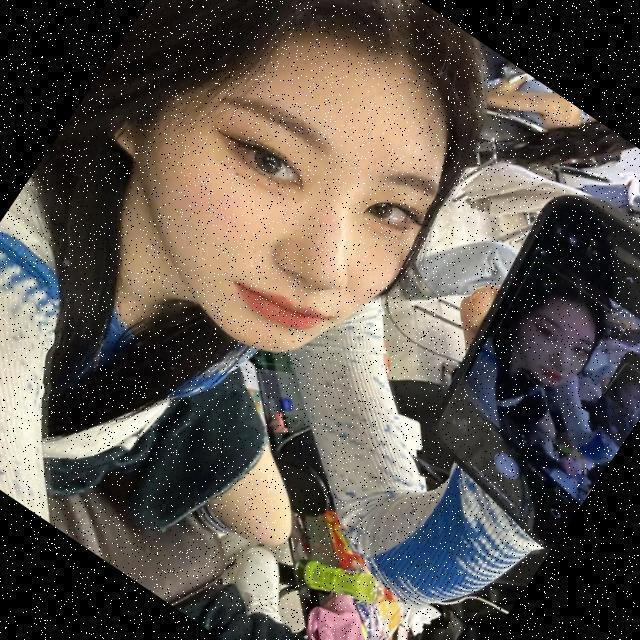phone: (432, 194, 640, 555)
